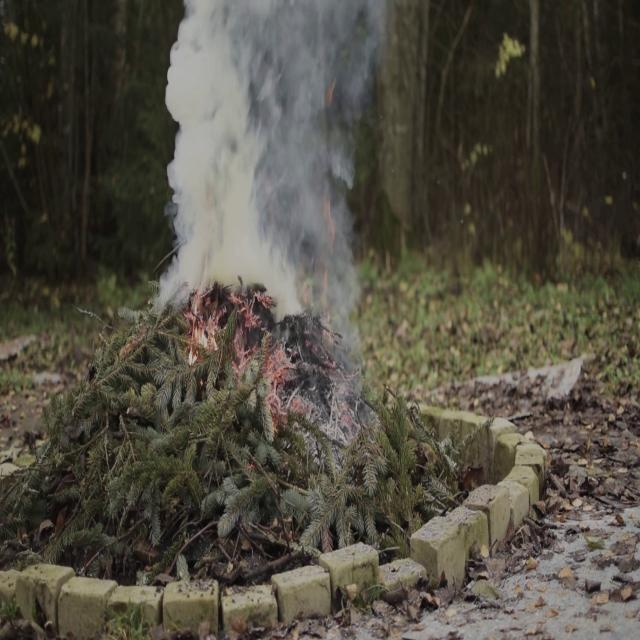Smoke: (152, 0, 374, 321)
